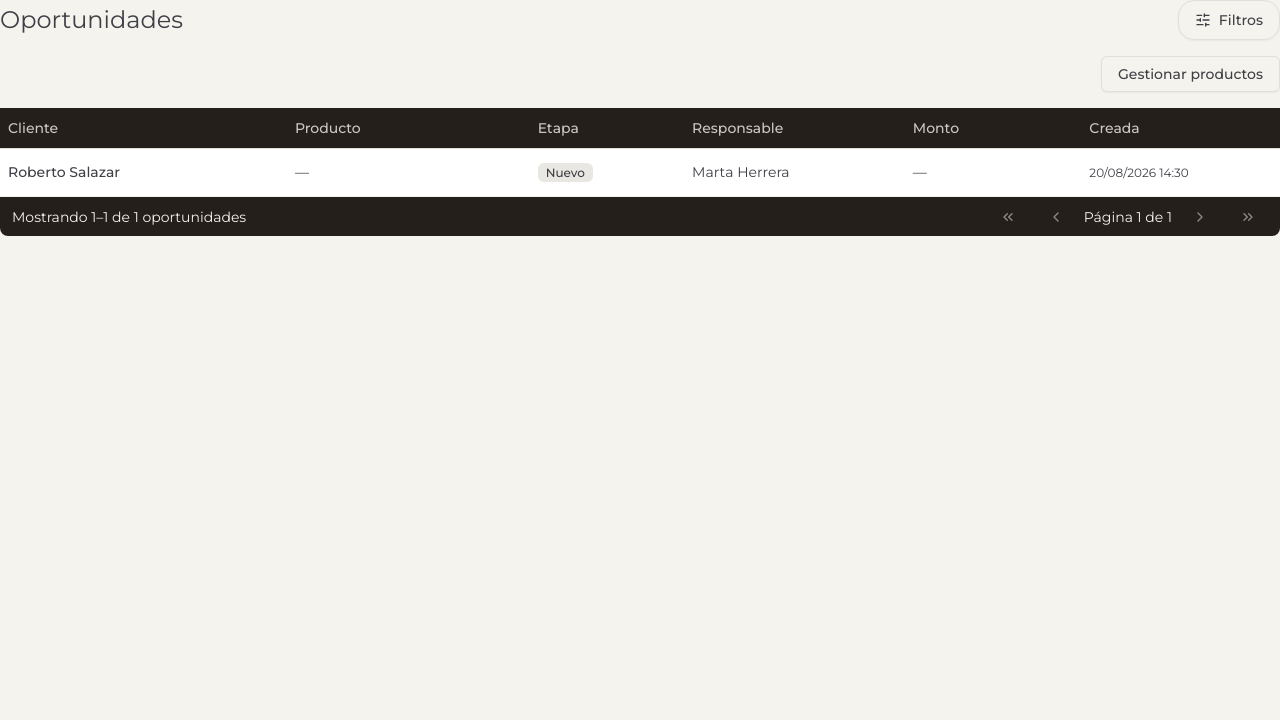
OportunidadesPage — catálogo de productos › ADMINISTRADOR: «Gestionar productos» abre el diálogo del catálogo
Expected: the link "Roberto Salazar" is shown, 8,163 -> 120,181
Click the button "Gestionar productos": (1190,74) 1101,56 -> 1279,92
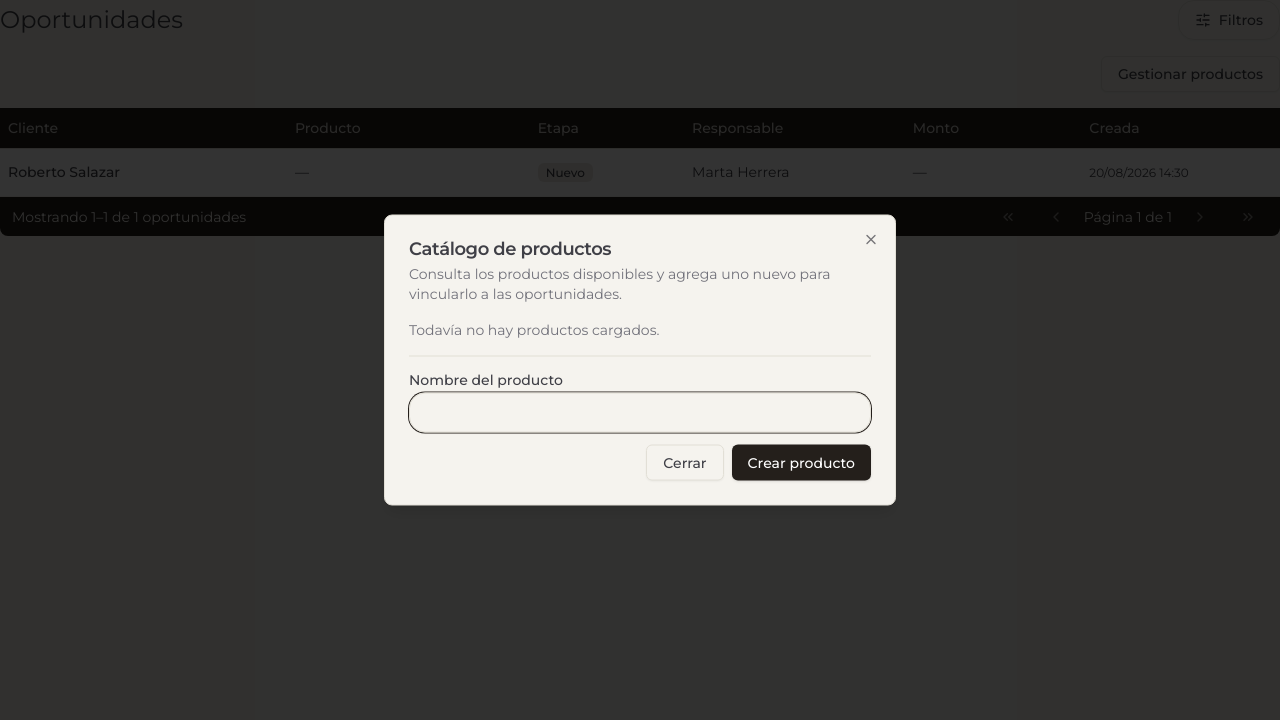
Result: the dialog "Catálogo de productos" is shown at 384,214 -> 896,506
